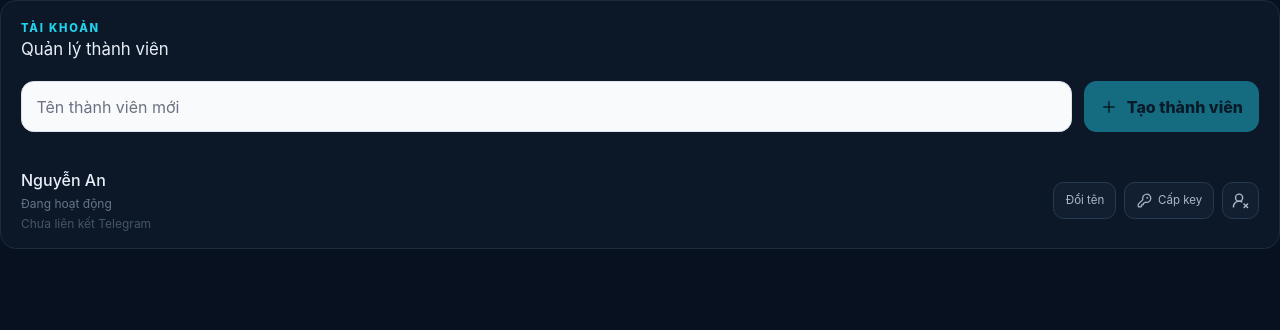
Test case: admin actions › shows account action errors instead of leaving an unhandled rejection
Click the button "Cấp key" at (1169, 200), box top-left (1124, 182), bottom-right (1214, 219)
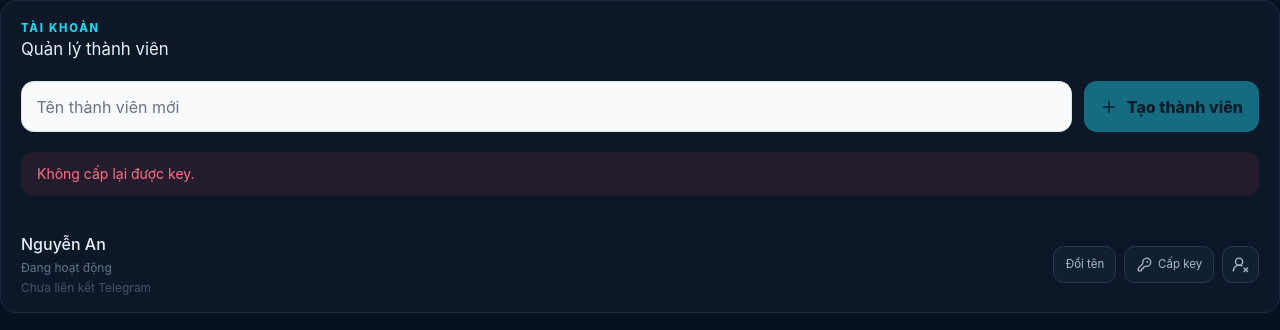
Check: the text "Không cấp lại được key." is shown, box top-left (21, 152), bottom-right (1259, 196)
